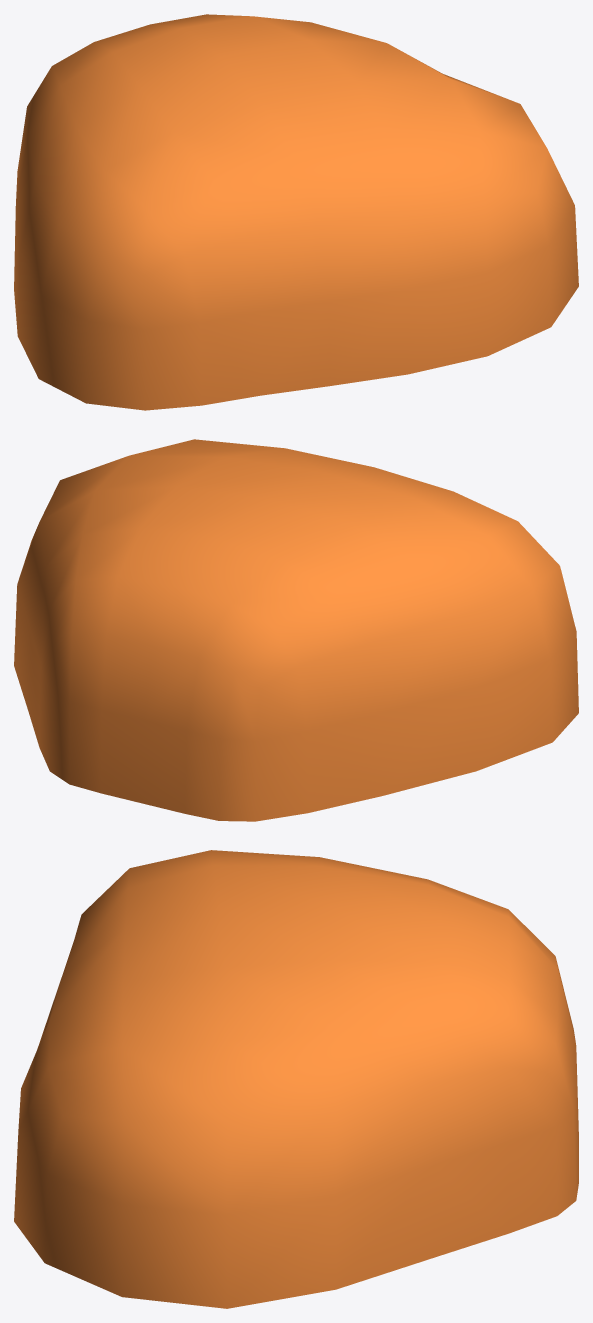
The model's file is Rock 1.fbx.
3 views of the same model, one above another, from view 1: azimuth 30°, elevation 25°; view 2: azimuth 150°, elevation 25°; view 3: azimuth 270°, elevation 25° (orthographic). The views are drawn at different scales.
Parts seen in each view (by area): view 1: Rock 1; view 2: Rock 1; view 3: Rock 1.
Part boxes in pixels (x1,y1,x2,y2): Rock 1: (14,14,578,410); Rock 1: (14,439,578,821); Rock 1: (14,850,578,1308).
Size of the model in its own units: 2.08 by 0.8635 by 1.77.
